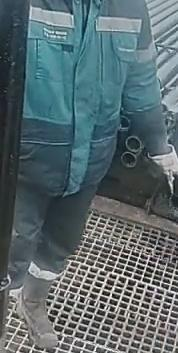gloves: (145, 139, 178, 208)
vest: (17, 0, 156, 187)
